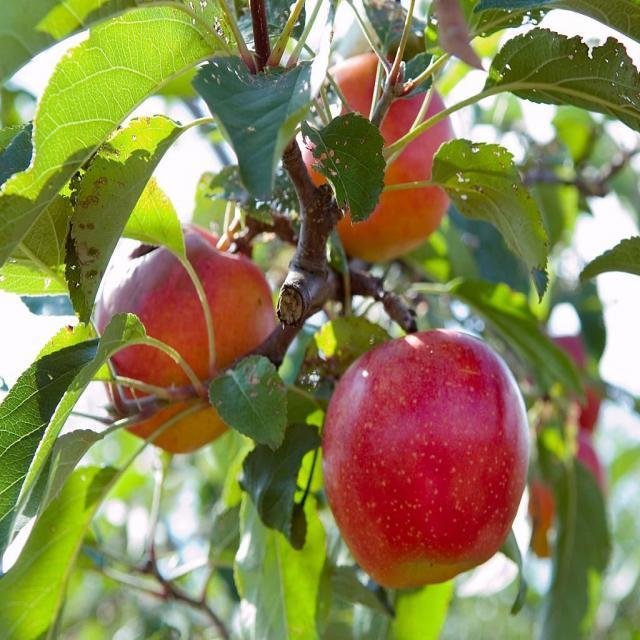Red Apple: (328, 330, 527, 573), (108, 211, 279, 439), (306, 52, 466, 257), (526, 429, 612, 553), (550, 334, 620, 426)
